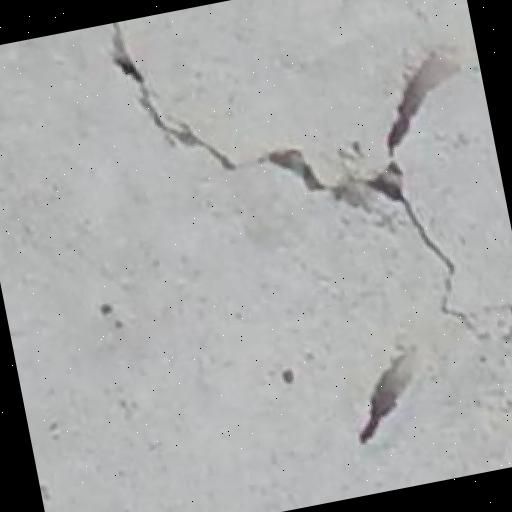spalling: (85, 27, 512, 358)
